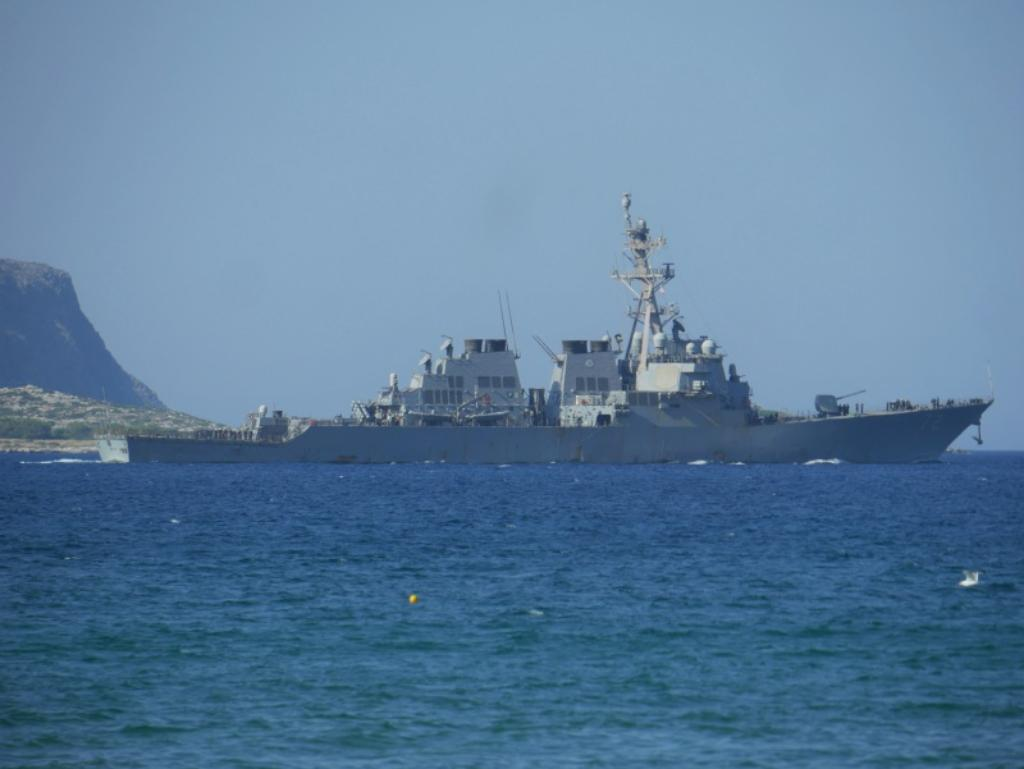Warship: (90, 188, 996, 468)
